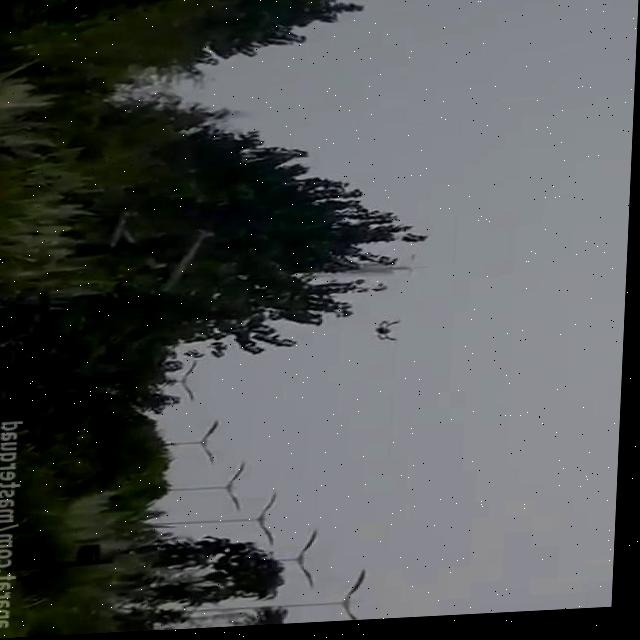drone: (374, 320, 414, 351)
